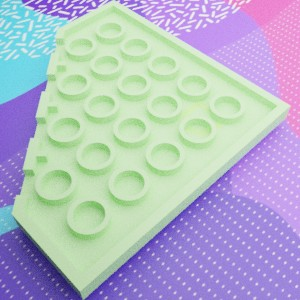lego: (11, 0, 290, 300), (177, 99, 231, 148)
